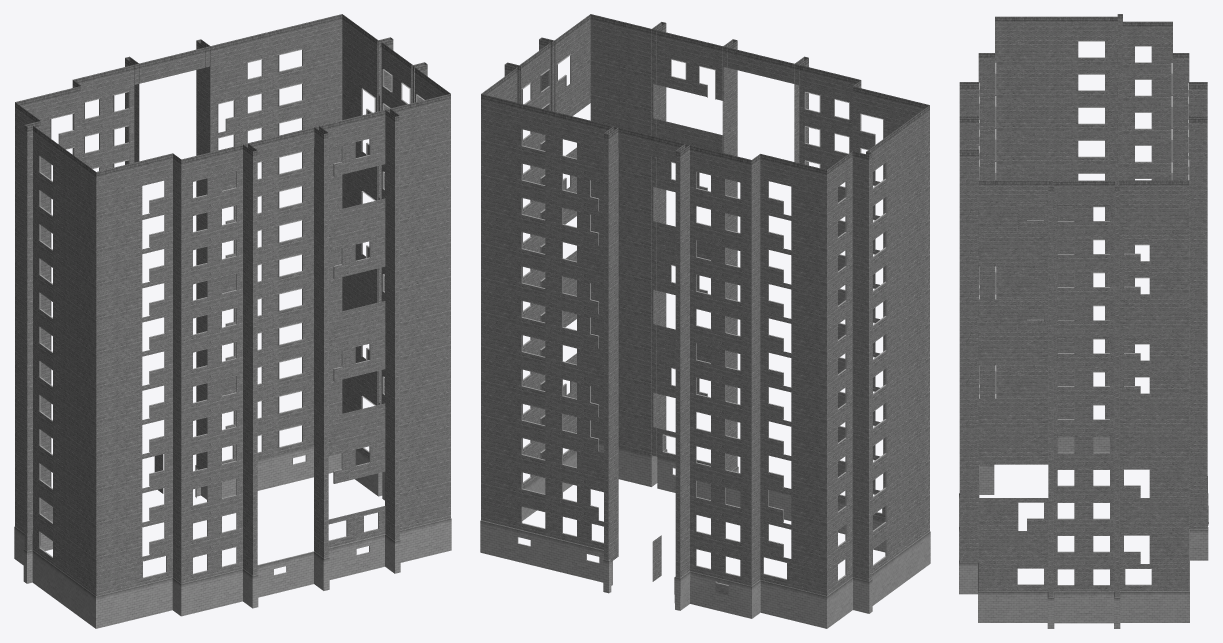
Rendered from block_of_flats_04_ru.fbx.
The picture shows the model from 3 angles, left to right: view 1: azimuth 30°, elevation 25°; view 2: azimuth 150°, elevation 25°; view 3: azimuth 270°, elevation 25°; orthographic projection. The views are drawn at different scales.
Visible parts, largest first — view 1: Part1 01; view 2: Part1 01; view 3: Part1 01.
Part boxes in pixels (<box>): Part1 01: <box>14,14,451,628</box>; Part1 01: <box>480,14,930,628</box>; Part1 01: <box>959,14,1208,628</box>.
Size of the model in its own units: 31.36 by 37.44 by 19.17.
